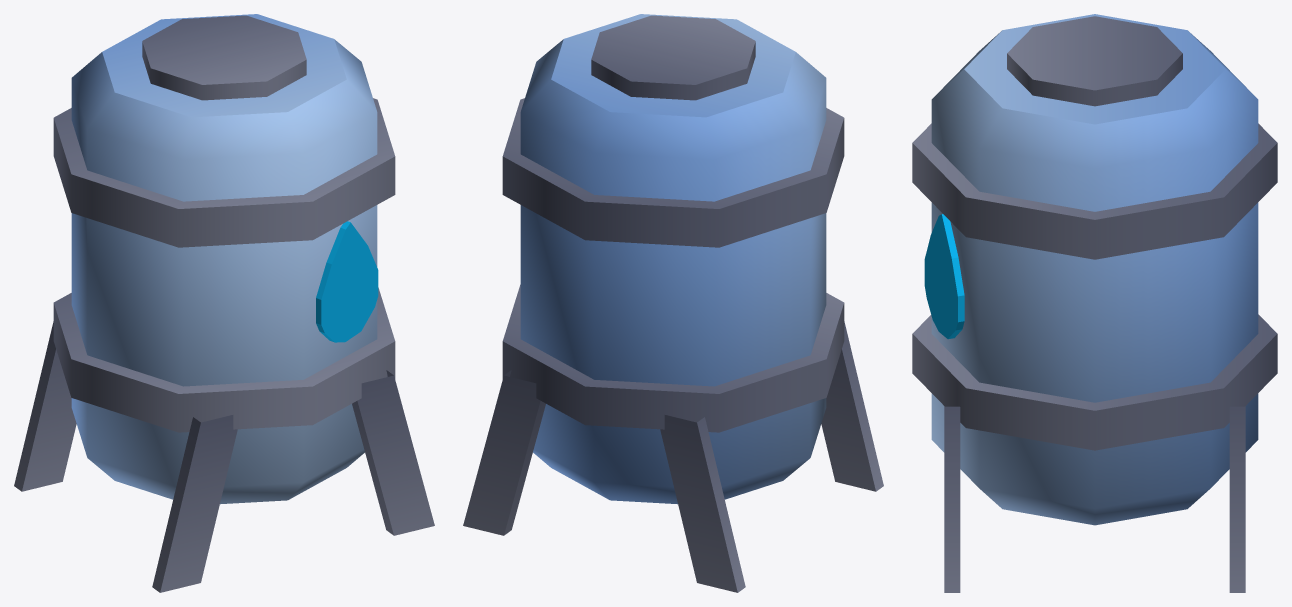
Rendered from water_tower.glb.
3 renders of one model, left to right at view 1: azimuth 30°, elevation 25°; view 2: azimuth 150°, elevation 25°; view 3: azimuth 270°, elevation 25°, orthographic. The views are drawn at different scales.
Parts seen in each view (by area): view 1: detail-tank.002; view 2: detail-tank.002; view 3: detail-tank.002.
Boxes of the visible parts, x1,y1,x2,y2 form: detail-tank.002: (14, 14, 434, 592); detail-tank.002: (463, 14, 883, 592); detail-tank.002: (912, 14, 1277, 592).
Size of the model in its own units: 0.6752 by 0.96 by 0.6752.
Materials: 2 (1 with a texture image).
